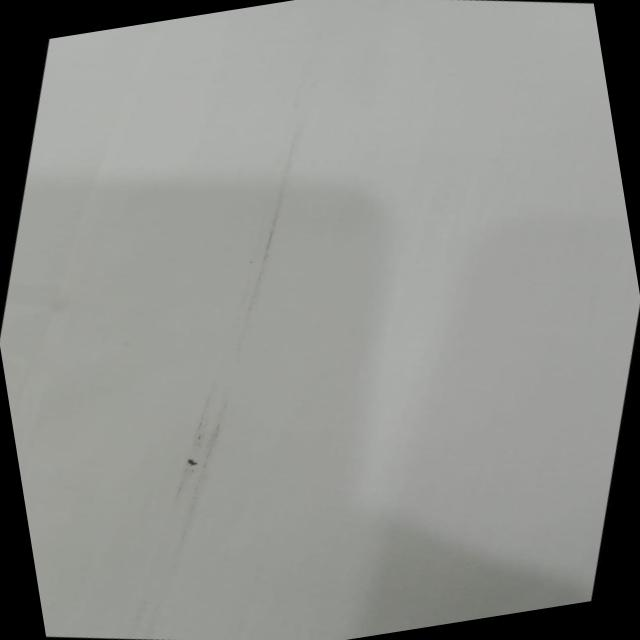stain: (32, 41, 421, 640)
